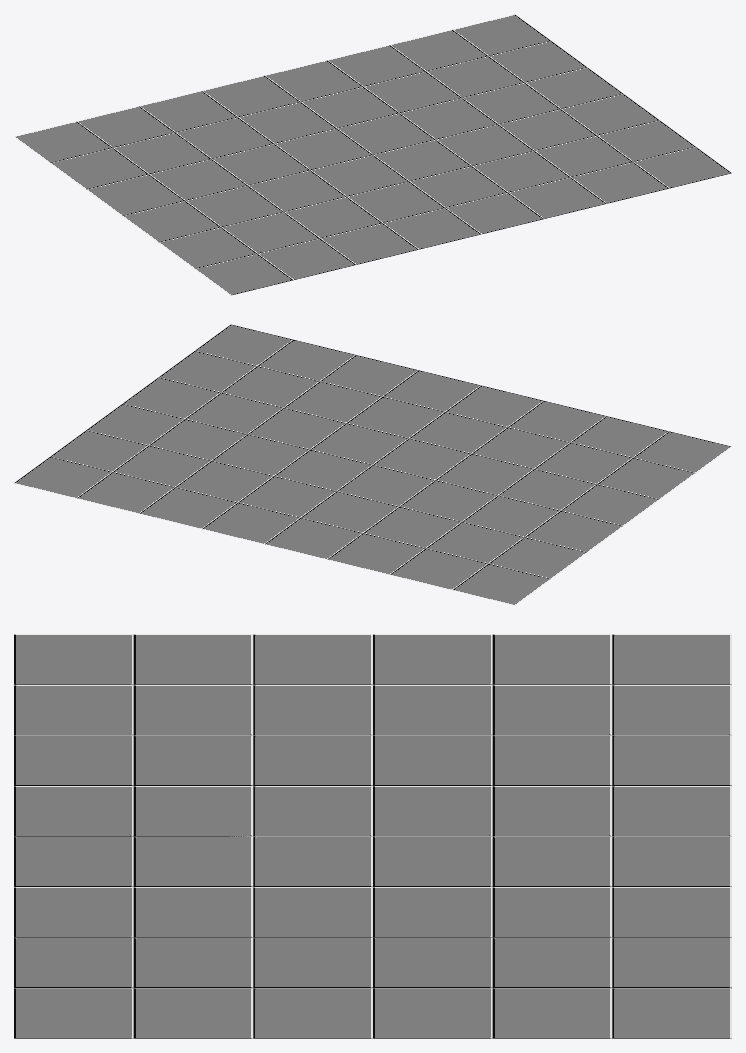
File: roomTemplate_8x6.FBX
The picture shows the model from 3 angles, top to bottom: view 1: azimuth 30°, elevation 25°; view 2: azimuth 150°, elevation 25°; view 3: azimuth 270°, elevation 25°; orthographic projection. The views are drawn at different scales.
Visible parts, largest first — view 1: roomTemplate_8x6; view 2: roomTemplate_8x6; view 3: roomTemplate_8x6.
Part boxes in pixels (x1,y1,x2,y2): roomTemplate_8x6: (14,14,731,295); roomTemplate_8x6: (14,324,731,605); roomTemplate_8x6: (14,634,731,1038).
Size of the model in its own units: 16 by 5.25e-07 by 12.
Materials: 1 (1 with a texture image).
